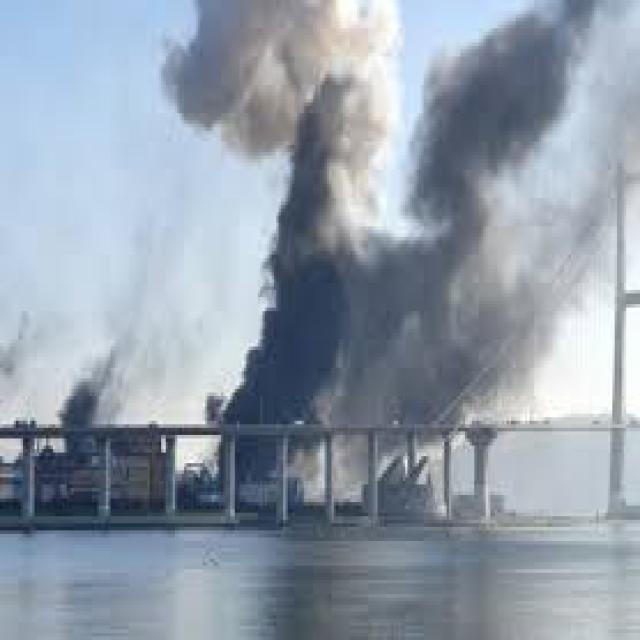explosion: (156, 0, 640, 555)
